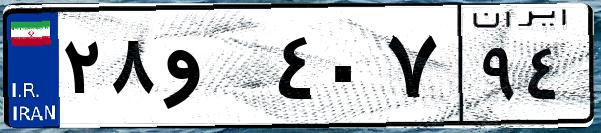0: (330, 28, 385, 110)
2: (57, 26, 110, 100)
4: (270, 28, 330, 110), (525, 38, 570, 115)
7: (385, 28, 445, 110)
8: (110, 28, 158, 98)
9: (475, 38, 525, 113)
و: (158, 20, 270, 120)
